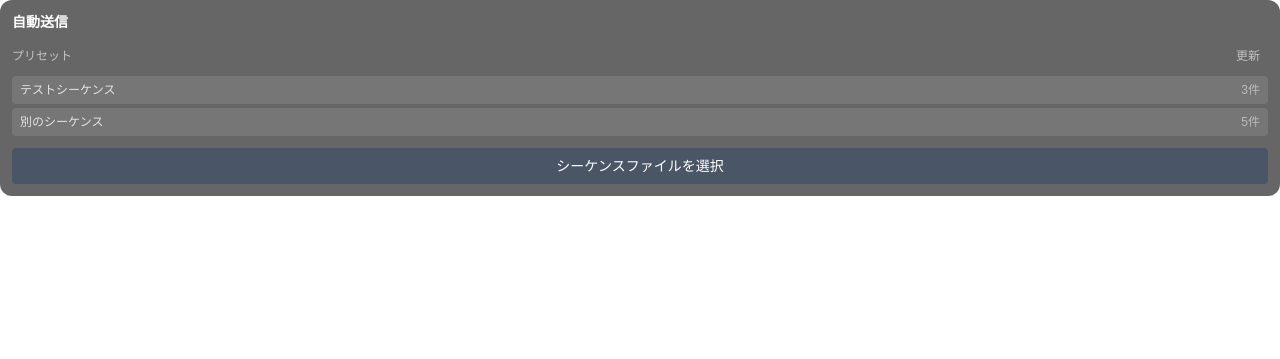
ScriptAutoSenderPanel - プリセット機能 › タスク3.3: プリセット選択時の読み込み処理 (Requirements 2.1, 2.2, 2.3, 2.4) › 読み込み完了後に制御ボタン（開始など）が表示される
Click the text "テストシーケンス" at (68, 90), box [20,82,115,98]
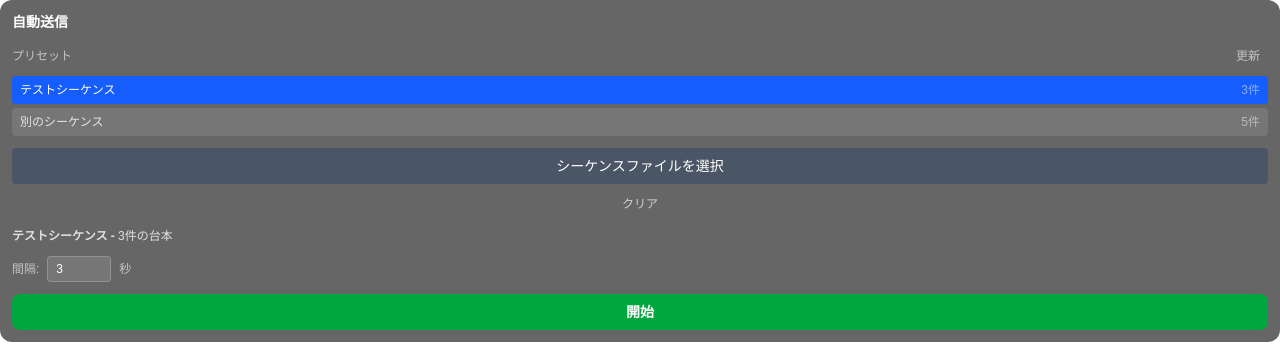
Expected: the button "開始" is shown, [12,294,1268,330]
